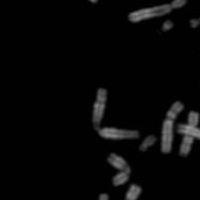chromosome: (92, 88, 139, 139), (160, 100, 183, 151), (130, 0, 185, 21), (180, 111, 197, 155), (107, 153, 130, 184), (177, 125, 200, 152), (120, 183, 140, 200), (140, 133, 155, 152), (82, 193, 107, 200), (189, 15, 200, 29), (162, 20, 174, 32), (57, 0, 98, 1)
